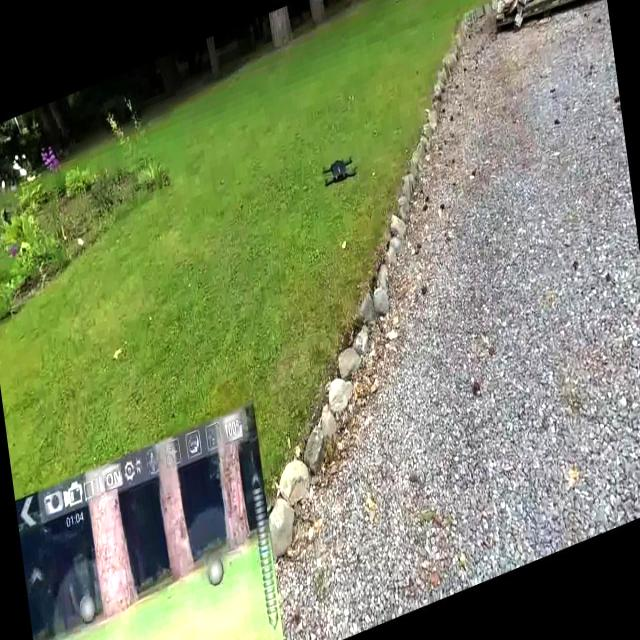drone: (319, 149, 359, 194)
